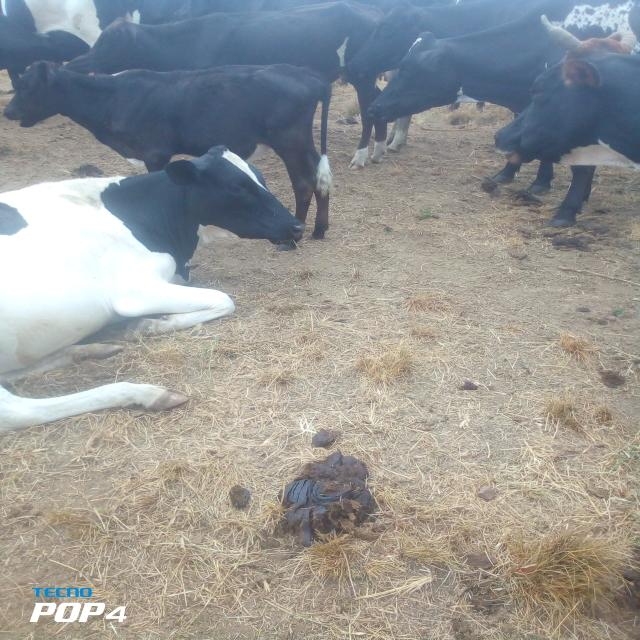cow: (0, 126, 328, 443)
